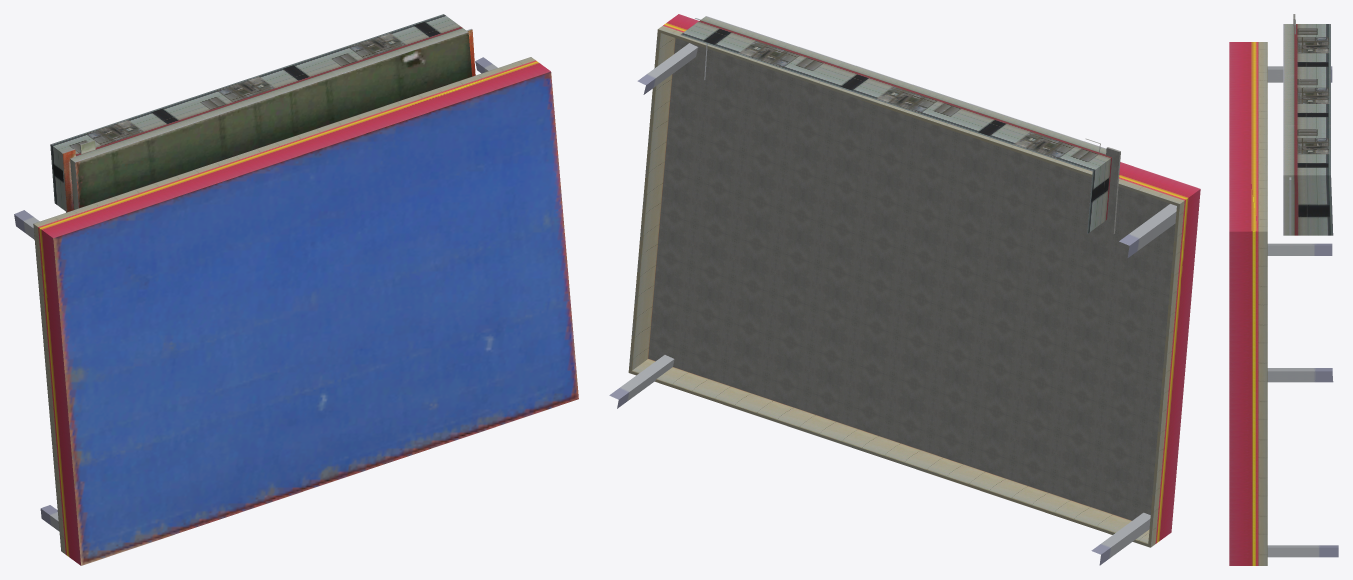
The picture shows the model from 3 angles, left to right: view 1: azimuth 30°, elevation 25°; view 2: azimuth 150°, elevation 25°; view 3: azimuth 270°, elevation 25°; orthographic projection. The views are drawn at different scales.
Parts seen in each view (by area): view 1: Group_MatrixTransform_i95027_Geometry_16, Group_MatrixTransform_i95027_Geometry_11, Group_MatrixTransform_i95027_Geometry_5, Group_MatrixTransform_i95027_Geometry_0, Group_MatrixTransform_i95027_Geometry_4, Group_MatrixTransform_i95027_Geometry_6, Group_MatrixTransform_i95027_Geometry_1; view 2: Group_MatrixTransform_i95027_Geometry_3, Group_MatrixTransform_i95027_Geometry_4, Group_MatrixTransform_i95027_Geometry_0, Group_MatrixTransform_i95027_Geometry_5, Group_MatrixTransform_i95027_Geometry_2, Group_MatrixTransform_i95027_Geometry_6, Group_MatrixTransform_i95027_Geometry_1; view 3: Group_MatrixTransform_i95027_Geometry_5, Group_MatrixTransform_i95027_Geometry_0, Group_MatrixTransform_i95027_Geometry_4, Group_MatrixTransform_i95027_Geometry_6, Group_MatrixTransform_i95027_Geometry_1, Group_MatrixTransform_i95027_Geometry_17.
Part boxes in pixels (x1,y1,x2,y2): Group_MatrixTransform_i95027_Geometry_16: (53, 71, 578, 565); Group_MatrixTransform_i95027_Geometry_11: (75, 32, 472, 208); Group_MatrixTransform_i95027_Geometry_5: (38, 60, 550, 565); Group_MatrixTransform_i95027_Geometry_0: (51, 14, 468, 162); Group_MatrixTransform_i95027_Geometry_4: (33, 57, 535, 554); Group_MatrixTransform_i95027_Geometry_6: (14, 57, 497, 531); Group_MatrixTransform_i95027_Geometry_1: (50, 144, 78, 211); Group_MatrixTransform_i95027_Geometry_3: (648, 38, 1175, 520); Group_MatrixTransform_i95027_Geometry_4: (631, 26, 1184, 547); Group_MatrixTransform_i95027_Geometry_0: (680, 16, 1111, 171); Group_MatrixTransform_i95027_Geometry_5: (663, 14, 1200, 543); Group_MatrixTransform_i95027_Geometry_2: (628, 29, 1179, 547); Group_MatrixTransform_i95027_Geometry_6: (609, 43, 1176, 565); Group_MatrixTransform_i95027_Geometry_1: (1087, 158, 1111, 233); Group_MatrixTransform_i95027_Geometry_5: (1229, 42, 1258, 565); Group_MatrixTransform_i95027_Geometry_0: (1283, 24, 1330, 175); Group_MatrixTransform_i95027_Geometry_4: (1258, 42, 1267, 565); Group_MatrixTransform_i95027_Geometry_6: (1267, 66, 1338, 557); Group_MatrixTransform_i95027_Geometry_1: (1283, 175, 1333, 235); Group_MatrixTransform_i95027_Geometry_17: (1289, 177, 1291, 235).
Bounding box in the file's own units: 53.36 × 39.95 × 10.02.
Materials: 18 (18 with a texture image).
